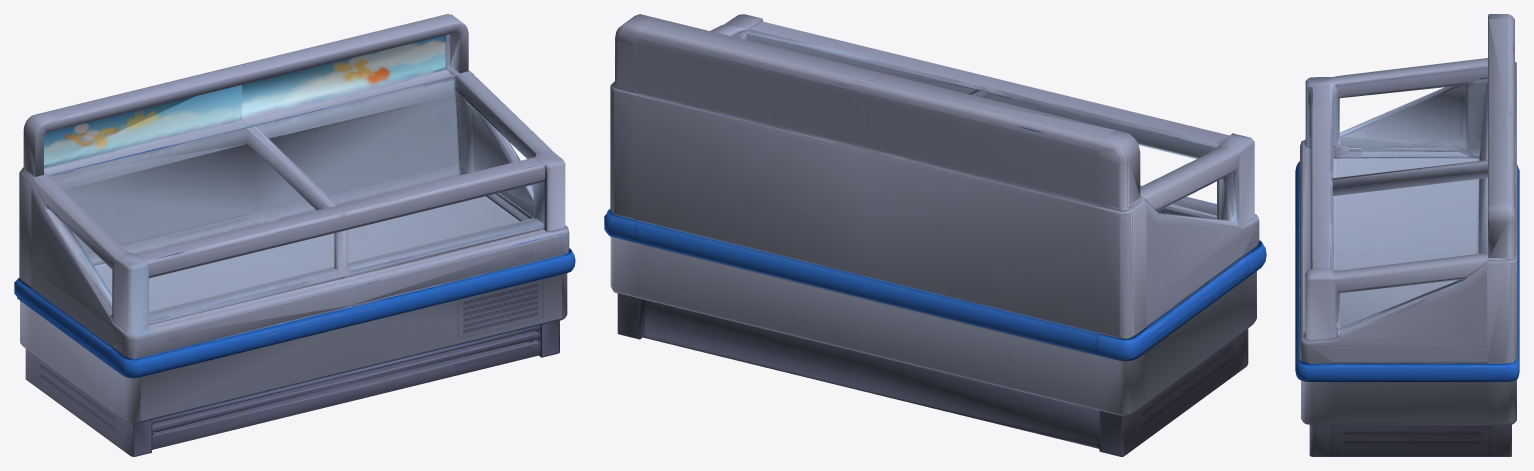
Rendered from 冰柜001（带材质）1.fbx.
The picture shows the model from 3 angles, left to right: view 1: azimuth 30°, elevation 25°; view 2: azimuth 150°, elevation 25°; view 3: azimuth 270°, elevation 25°; orthographic projection. The views are drawn at different scales.
Parts seen in each view (by area): view 1: mesh_node; view 2: mesh_node; view 3: mesh_node.
Boxes of the visible parts, box(x1,y1,x2,y2) form: mesh_node: box(14, 14, 575, 456); mesh_node: box(604, 14, 1266, 456); mesh_node: box(1295, 14, 1519, 456).
Size of the model in its own units: 887 by 493 by 403.
